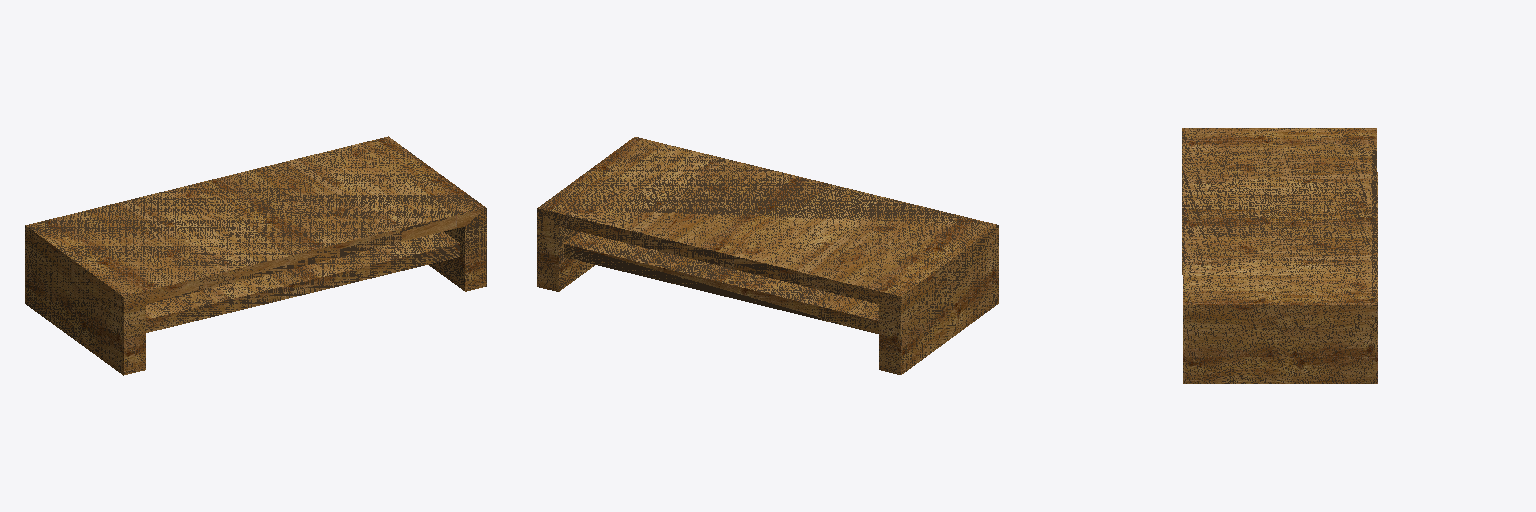
3 renders of one model, left to right at view 1: azimuth 30°, elevation 25°; view 2: azimuth 150°, elevation 25°; view 3: azimuth 270°, elevation 25°, orthographic.
Parts seen in each view (by area): view 1: SketchUp_ID940, SketchUp.010_ID1023; view 2: SketchUp_ID940, SketchUp.010_ID1023; view 3: SketchUp_ID940.
Boxes of the visible parts, x1=… form: SketchUp_ID940: x1=25, y1=136, x2=486, y2=375; SketchUp.010_ID1023: x1=146, y1=232, x2=459, y2=332; SketchUp_ID940: x1=537, y1=137, x2=998, y2=374; SketchUp.010_ID1023: x1=564, y1=232, x2=878, y2=333; SketchUp_ID940: x1=1182, y1=128, x2=1377, y2=383.
Size of the model in its own units: 13.45 by 2.79 by 6.28.
3 materials, 2 textured.